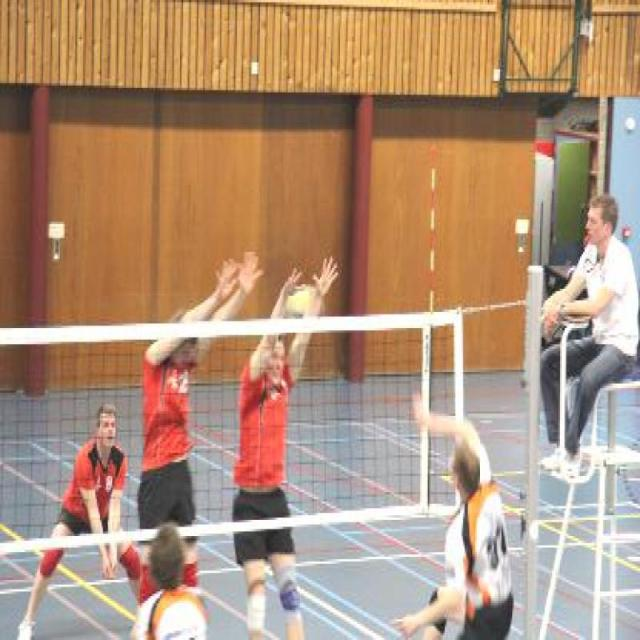volleyball: (283, 286, 320, 317)
